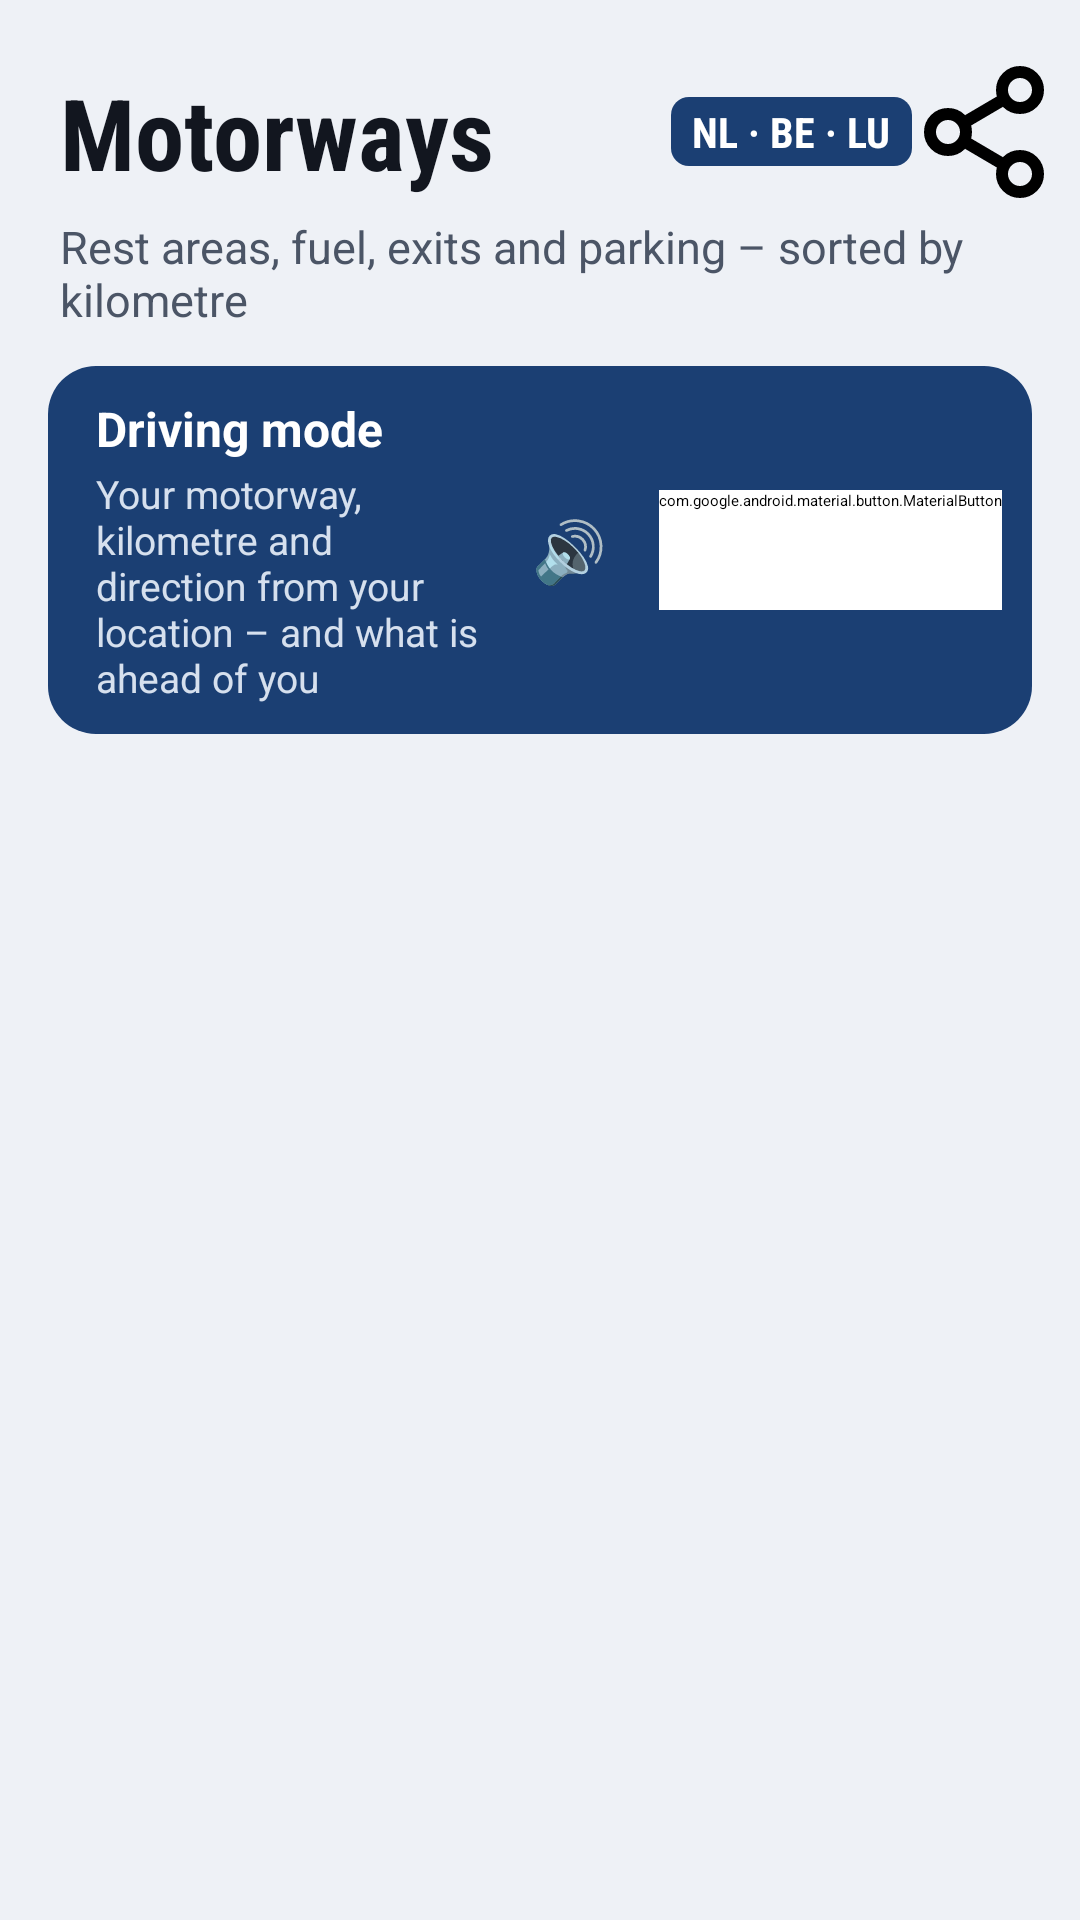

Named icons in this screenshot (1080w x 1920h) and their centers, [x,y]:
Share the app: [984,132]
